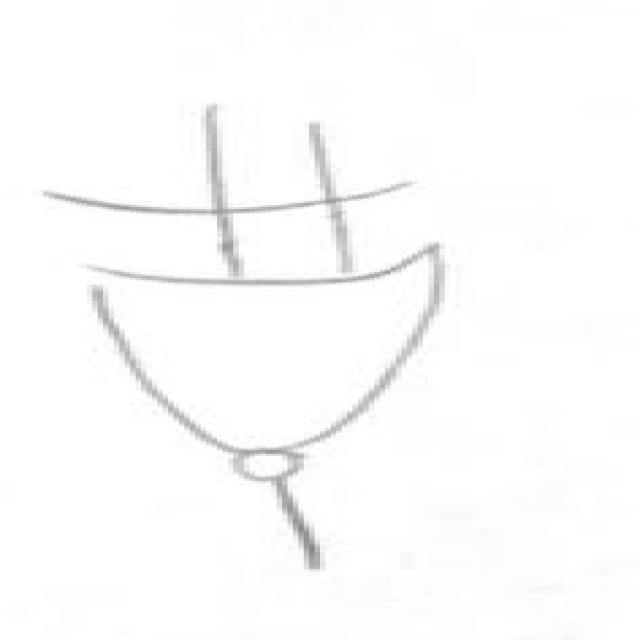XNOR: (35, 180, 559, 502)
